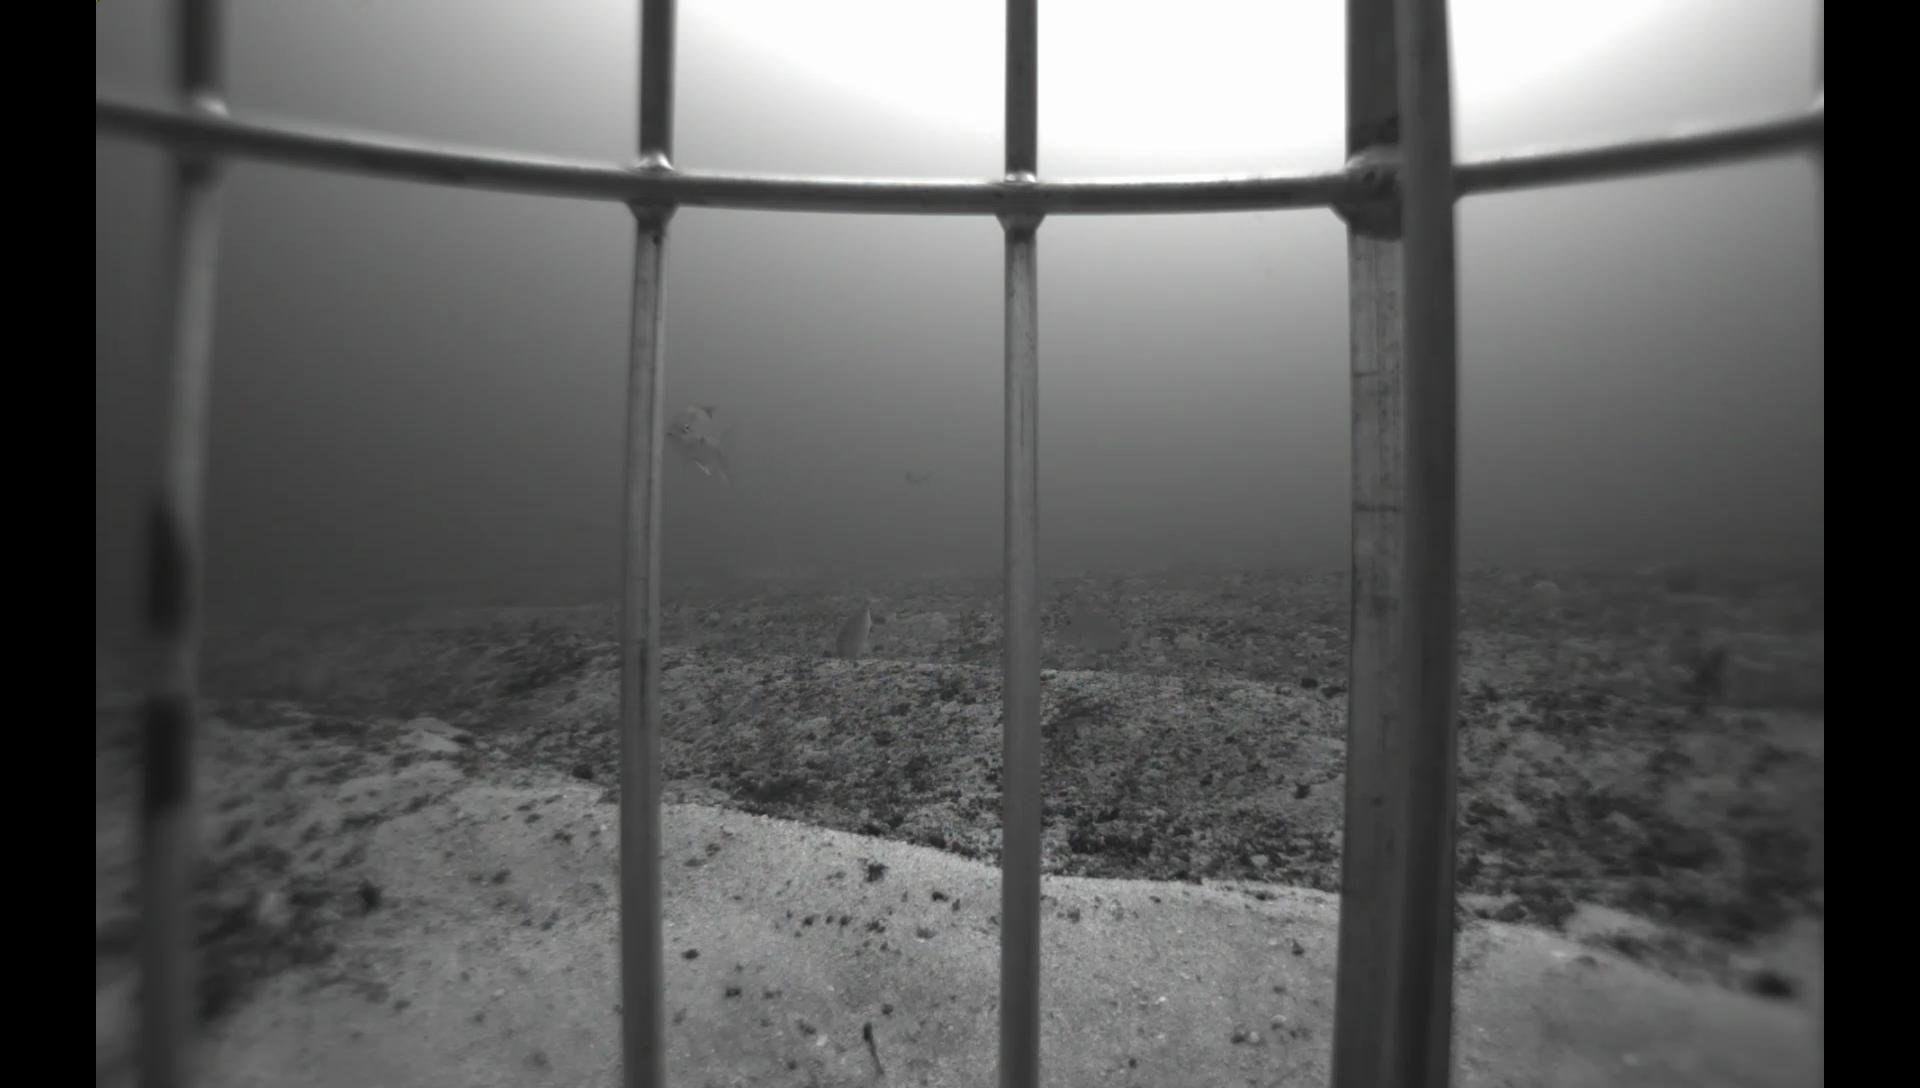CALAMUS-170210600: (1048, 604, 1154, 666), (829, 586, 887, 659)
RHOMBOPLITESAURORUBENS-170152001: (897, 463, 942, 491)
SERIOLARIVOLIANA-170113105: (663, 398, 756, 496)
